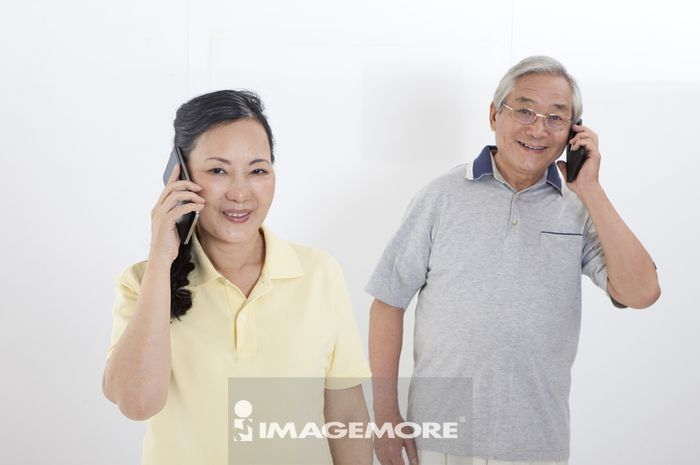phone: (161, 146, 203, 247), (566, 106, 587, 186)
talk: (151, 144, 274, 271), (506, 92, 603, 197)
